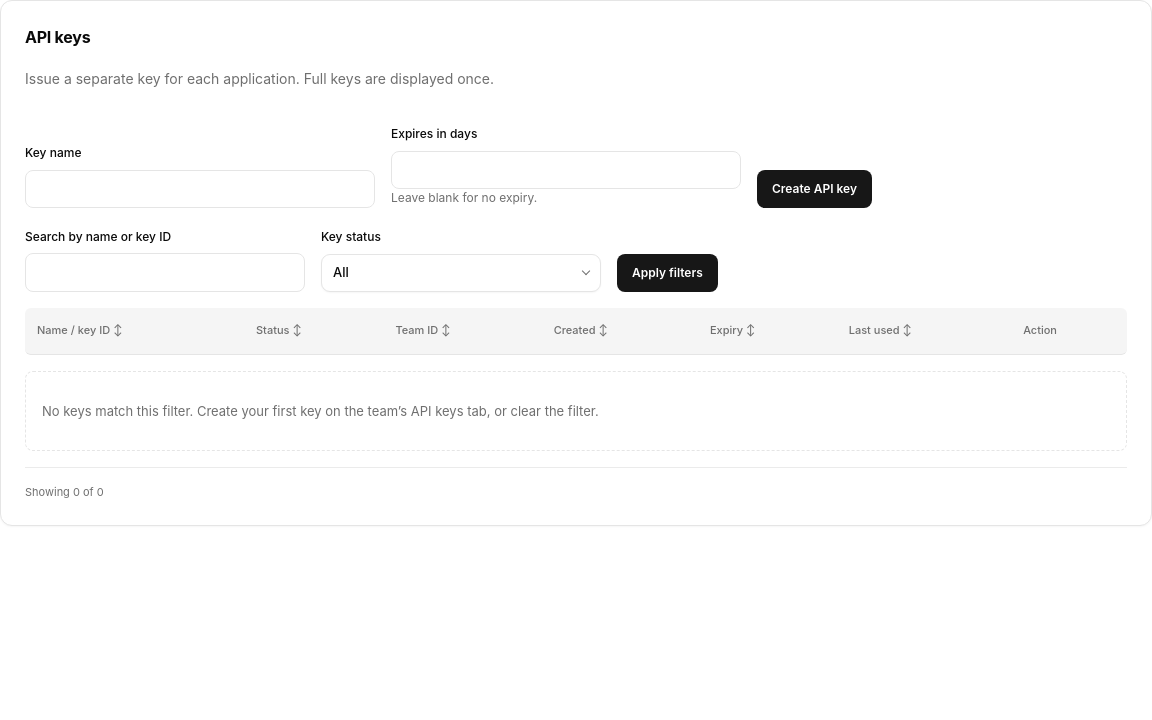
the created key cannot be reopened after closing
Type "fake-app" into the field labelled "Key name".
click(200, 189); type("fake-app")  # box [25,170,375,208]
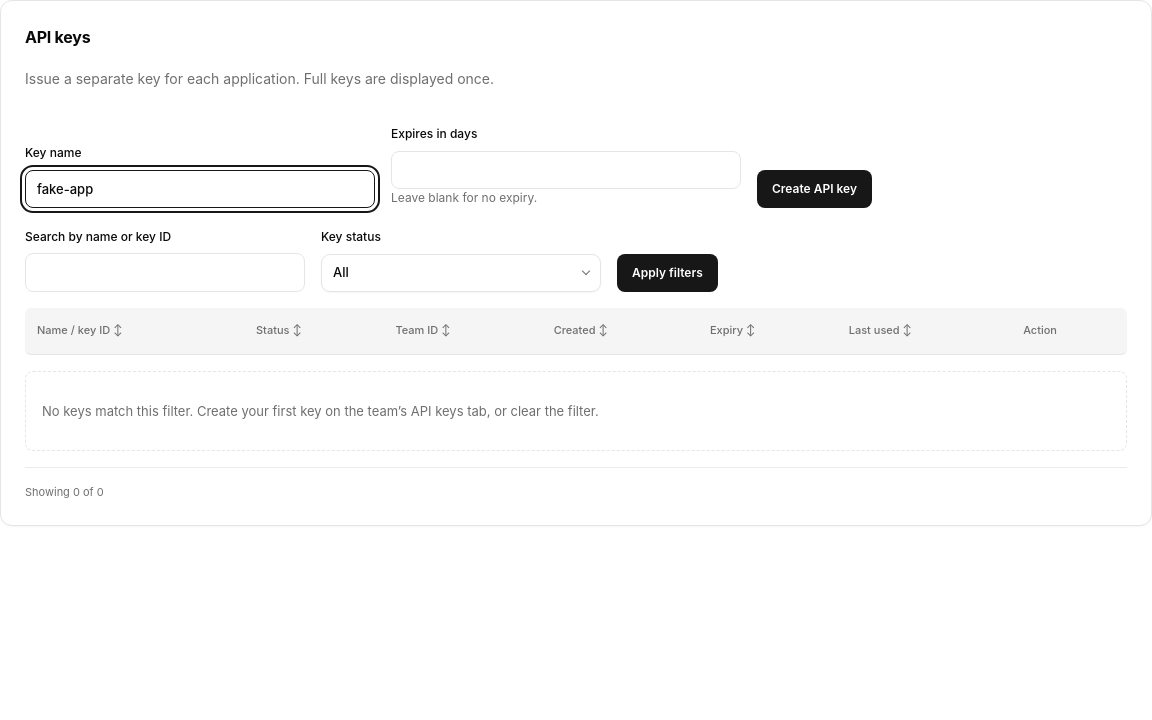
Click the button "Create API key".
click(814, 189)  # box [757,170,872,208]
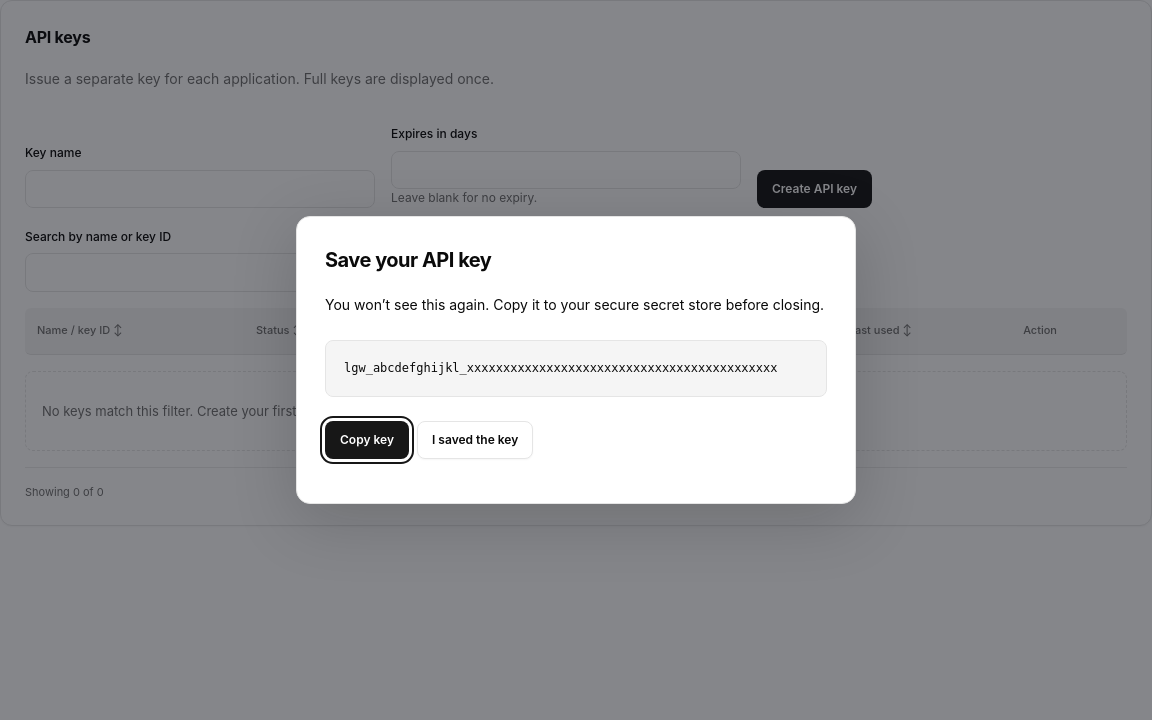
Click the button "I saved the key".
click(475, 440)  # box [417,421,533,459]
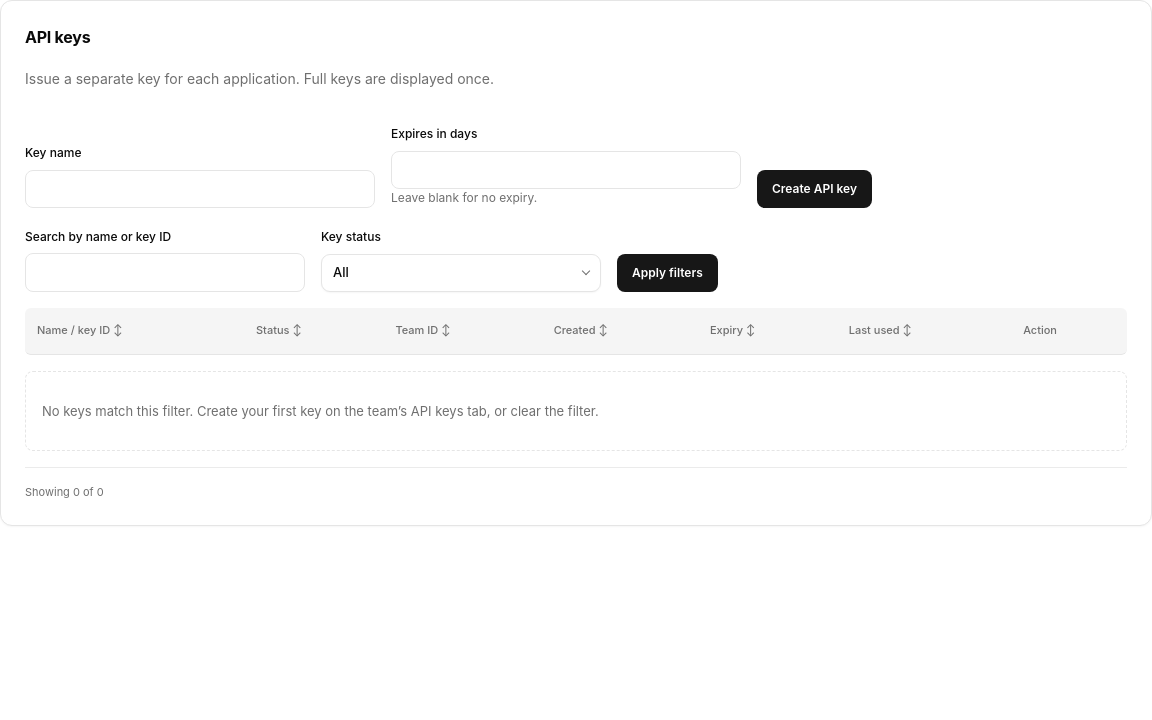
Now the dialog is gone
